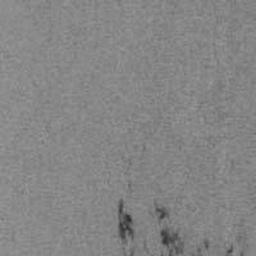Inclusion: (159, 228, 205, 256), (118, 197, 138, 247), (155, 205, 173, 224), (224, 242, 248, 256)
